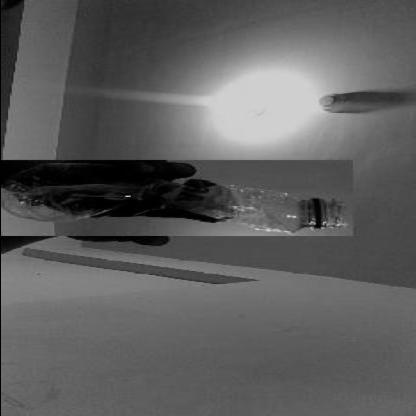plastic_bottles: (0, 160, 352, 235)
